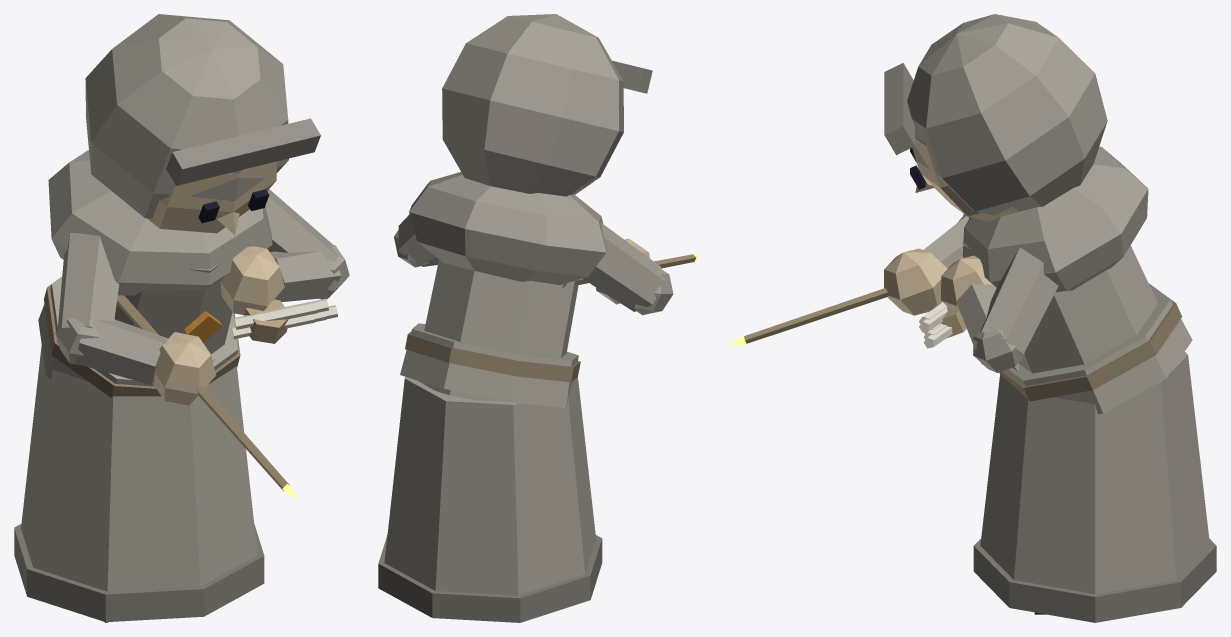
The model's file is keeper_sister.glb.
3 renders of one model, left to right at view 1: azimuth 30°, elevation 25°; view 2: azimuth 150°, elevation 25°; view 3: azimuth 270°, elevation 25°, orthographic. The views are drawn at different scales.
Parts seen in each view (by area): view 1: LegL, Head, Torso, ArmR, ArmL, Stool; view 2: LegL, Torso, Head, ArmR, ArmL; view 3: LegL, Head, Torso, ArmL, ArmR, Stool.
Boxes of the visible parts, bbox=[...] form: LegL: bbox=[14, 346, 264, 622]; Head: bbox=[85, 14, 320, 235]; Torso: bbox=[38, 150, 337, 397]; ArmR: bbox=[55, 233, 215, 405]; ArmL: bbox=[220, 189, 349, 314]; Stool: bbox=[116, 295, 296, 498]; LegL: bbox=[378, 376, 602, 622]; Torso: bbox=[400, 172, 606, 407]; Head: bbox=[442, 14, 652, 196]; ArmR: bbox=[583, 222, 673, 315]; ArmL: bbox=[394, 214, 438, 267]; LegL: bbox=[973, 352, 1216, 622]; Head: bbox=[884, 14, 1107, 221]; Torso: bbox=[919, 146, 1192, 414]; ArmL: bbox=[941, 247, 1058, 372]; ArmR: bbox=[884, 214, 969, 315]; Stool: bbox=[729, 265, 950, 345].
Size of the model in its own units: 0.8606 by 1.7 by 1.34.
